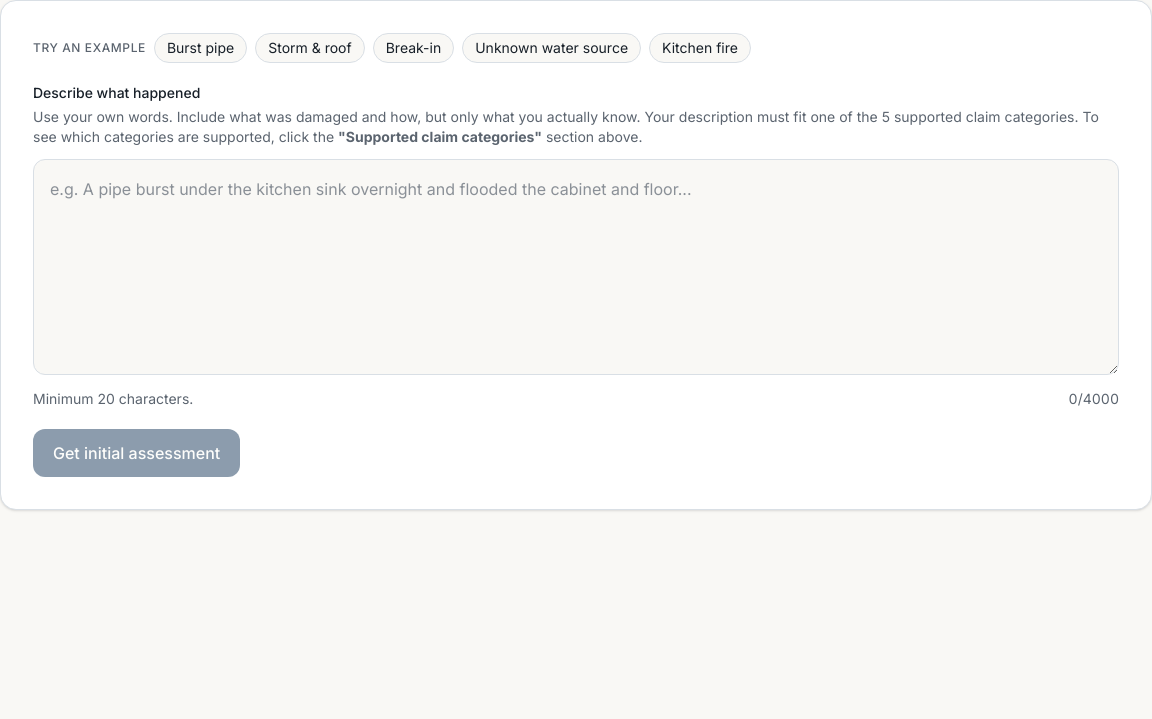
Scenario: IntakeForm › shows the loading state while the request is pending
Type "A pipe burst under the kitchen sink and damaged the cabinet and floor." into the text box labelled "Describe what happened" at coordinates (576, 267), box [33,159,1119,375]
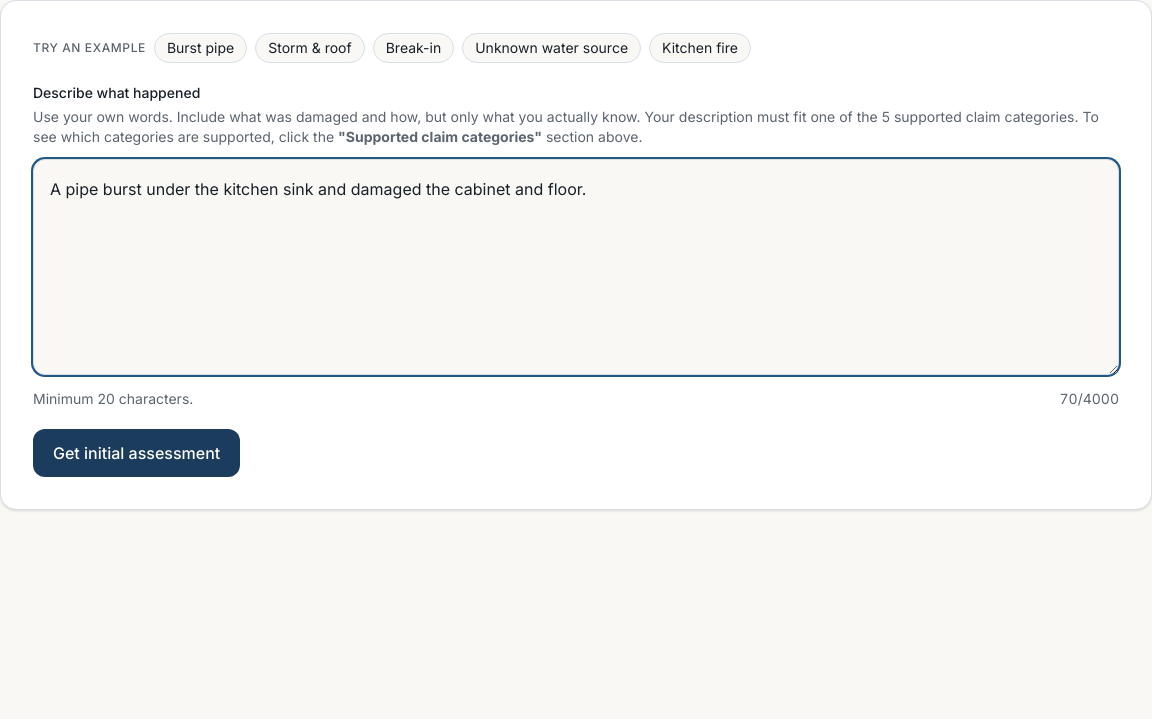
Click the button "Get initial assessment" at coordinates (137, 453), box [33,429,240,477]
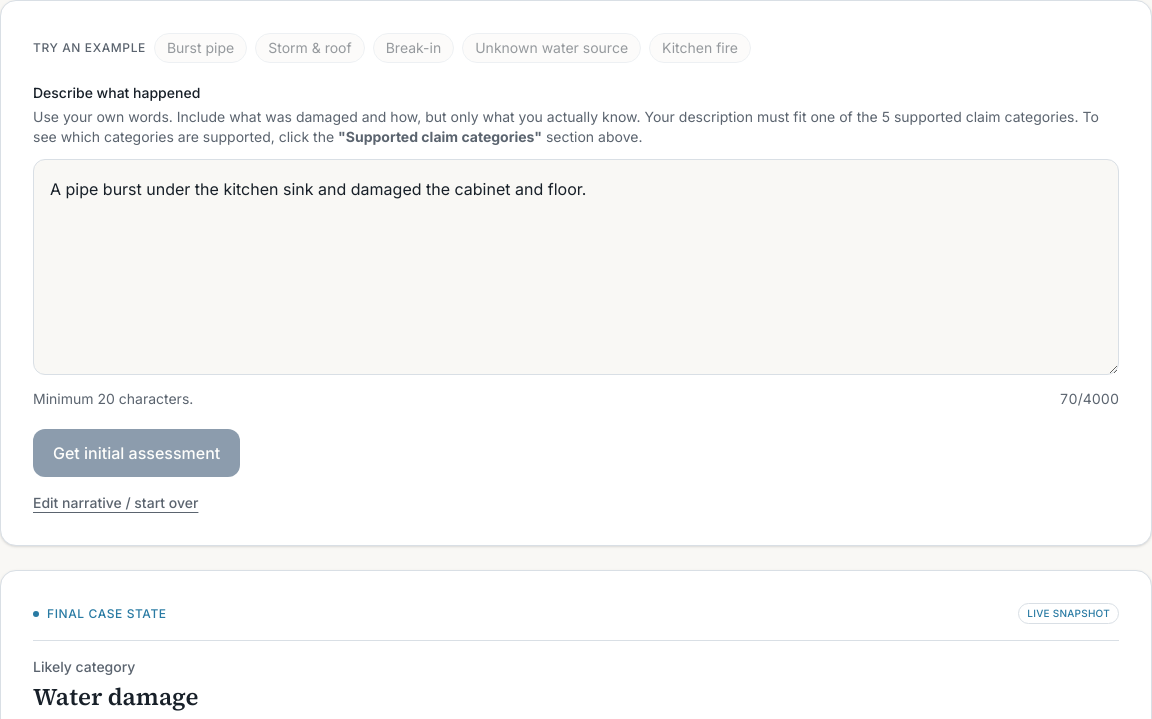
Expected: the button named "Starting assessment…" is disabled, [33,429,240,477]
Expected: the heading "Water damage" is shown, [33,680,198,713]
